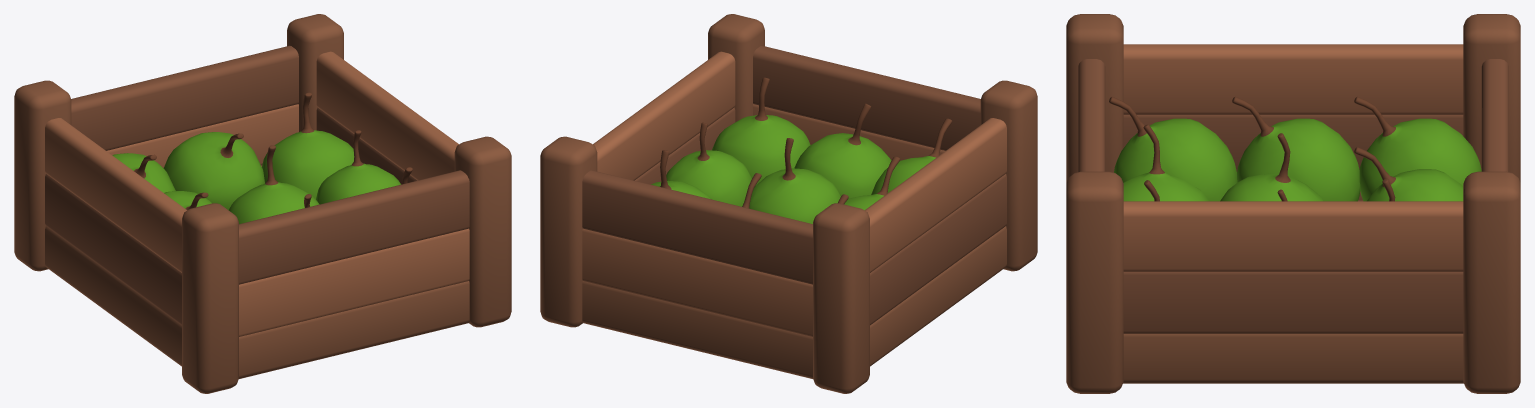
File: prop21.fbx
The picture shows the model from 3 angles, left to right: view 1: azimuth 30°, elevation 25°; view 2: azimuth 150°, elevation 25°; view 3: azimuth 270°, elevation 25°; orthographic projection. The views are drawn at different scales.
Visible parts, largest first — view 1: Cube.113; view 2: Cube.113; view 3: Cube.113.
Boxes of the visible parts, x1,y1,x2,y2 form: Cube.113: [14, 14, 511, 393]; Cube.113: [540, 14, 1037, 393]; Cube.113: [1066, 14, 1520, 393].
Size of the model in its own units: 0.8745 by 0.9243 by 0.4643.
